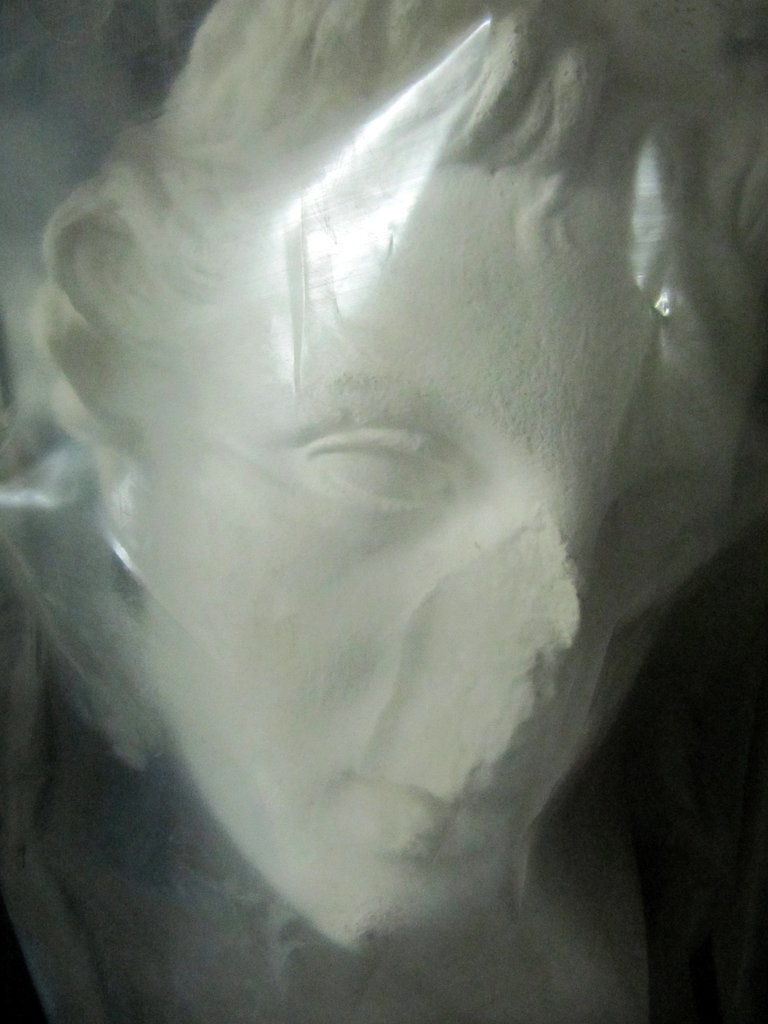Human-face: (124, 172, 752, 961)
